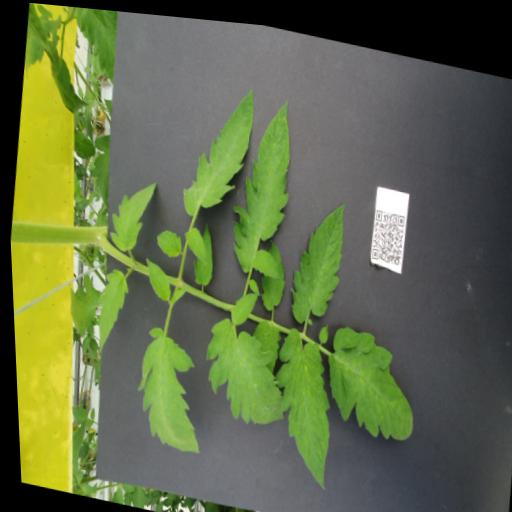Healthy: (219, 84, 301, 278), (193, 276, 296, 427), (257, 318, 340, 484), (175, 71, 260, 225), (317, 314, 422, 438), (125, 319, 210, 452), (281, 185, 349, 325), (103, 171, 157, 256), (88, 262, 132, 356), (60, 269, 103, 339), (188, 216, 216, 284), (138, 252, 173, 300), (179, 220, 210, 261), (70, 125, 97, 160), (151, 225, 181, 256), (77, 332, 89, 356)
